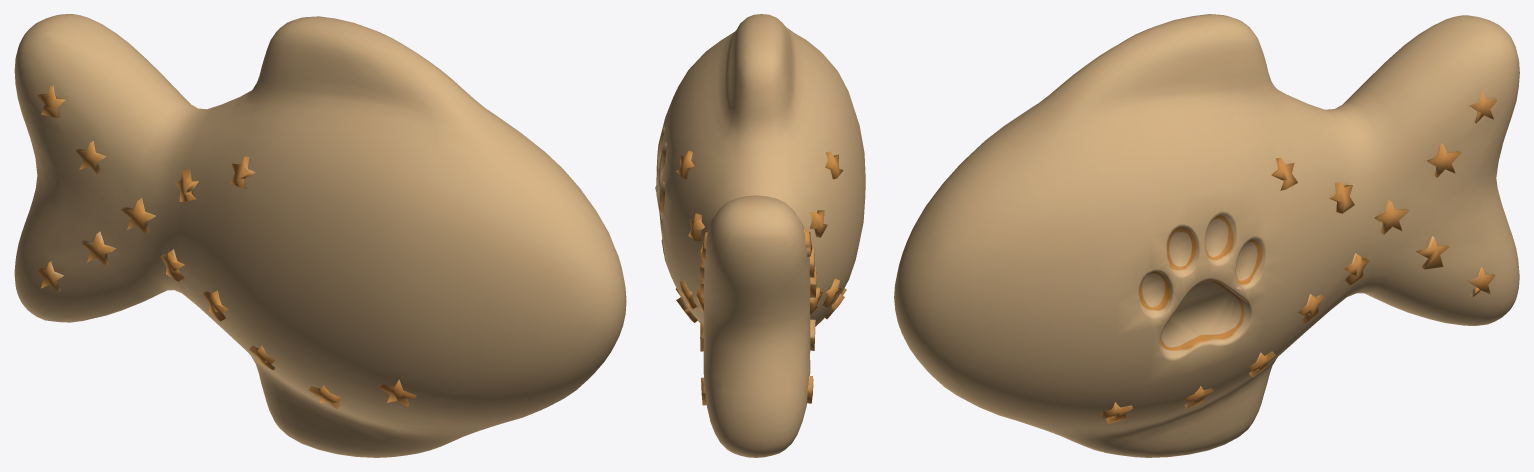
The model's file is cat-god-fish.glb.
3 renders of one model, left to right at view 1: azimuth 30°, elevation 25°; view 2: azimuth 150°, elevation 25°; view 3: azimuth 270°, elevation 25°, orthographic. The views are drawn at different scales.
Visible parts, largest first — view 1: tripo_node_06a19697-66ca-4114-aa72-aa95e1279e35; view 2: tripo_node_06a19697-66ca-4114-aa72-aa95e1279e35; view 3: tripo_node_06a19697-66ca-4114-aa72-aa95e1279e35.
Part boxes in pixels (x1,y1,x2,y2): tripo_node_06a19697-66ca-4114-aa72-aa95e1279e35: (14,14,626,457); tripo_node_06a19697-66ca-4114-aa72-aa95e1279e35: (655,14,865,457); tripo_node_06a19697-66ca-4114-aa72-aa95e1279e35: (894,14,1519,457).
Size of the model in its own units: 0.5785 by 0.6753 by 0.8949.
1 material, 1 textured.
